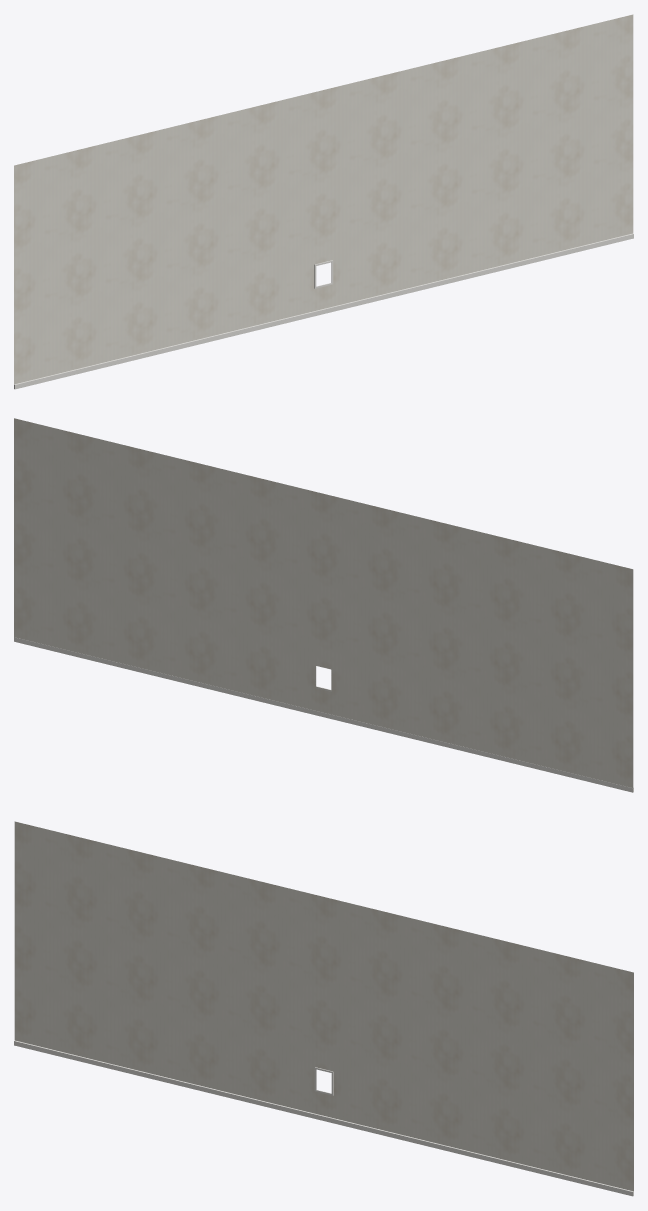
The model's file is wall20_vent_hi.gltf.
The picture shows the model from 3 angles, top to bottom: view 1: azimuth 30°, elevation 25°; view 2: azimuth 150°, elevation 25°; view 3: azimuth 330°, elevation 25°; orthographic projection.
Parts seen in each view (by area): view 1: jx_w20_vent_hi; view 2: jx_w20_vent_hi; view 3: jx_w20_vent_hi.
Boxes of the visible parts, left/top/right/bottom form: jx_w20_vent_hi: left=14, top=14, right=633, bottom=389; jx_w20_vent_hi: left=14, top=418, right=633, bottom=792; jx_w20_vent_hi: left=14, top=821, right=633, bottom=1196.
Size of the model in its own units: 20.3 by 7 by 0.05.
Materials: 2 (2 with a texture image).
